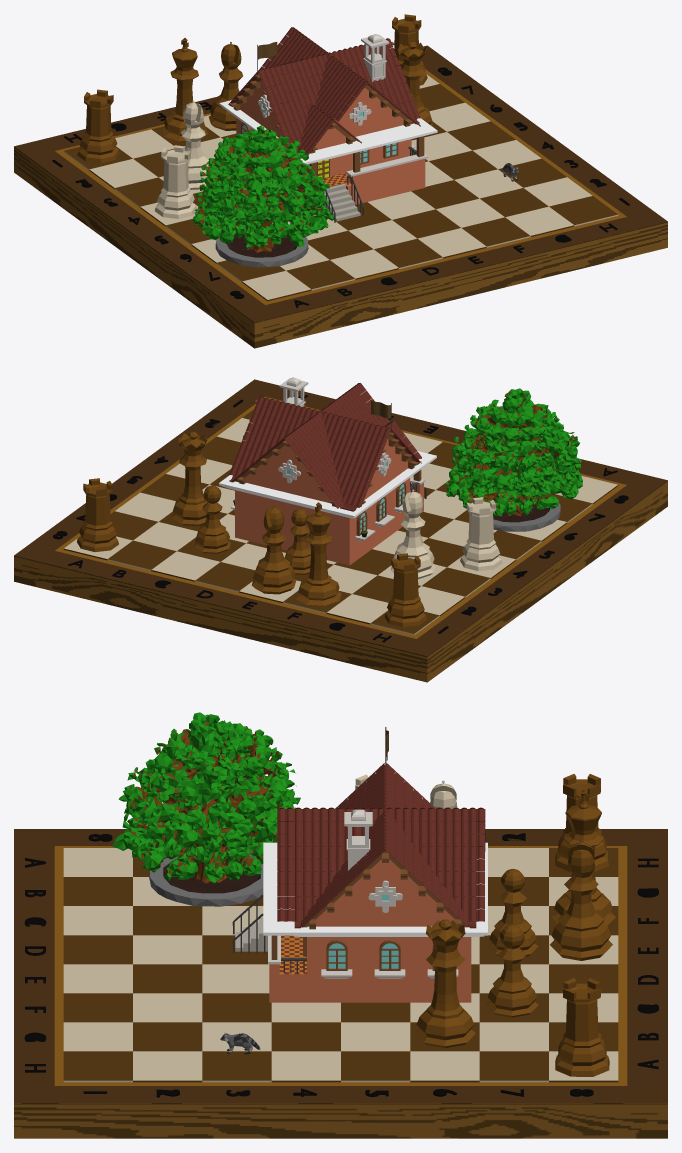
The picture shows the model from 3 angles, top to bottom: view 1: azimuth 30°, elevation 25°; view 2: azimuth 150°, elevation 25°; view 3: azimuth 270°, elevation 25°; orthographic projection. The views are drawn at different scales.
Parts seen in each view (by area): view 1: Cube.002, Cube.1141, OBJRANDOM_CEIBA; view 2: Cube.002, Cube.1141, OBJRANDOM_CEIBA; view 3: Cube.002, Cube.1141, OBJRANDOM_CEIBA.
Boxes of the visible parts, left/top/right/bottom form: Cube.002: left=14, top=14, right=667, bottom=348; Cube.1141: left=219, top=27, right=437, bottom=222; OBJRANDOM_CEIBA: left=193, top=125, right=334, bottom=267; Cube.002: left=14, top=379, right=667, bottom=682; Cube.1141: left=219, top=377, right=436, bottom=565; OBJRANDOM_CEIBA: left=445, top=388, right=582, bottom=531; Cube.002: left=14, top=774, right=667, bottom=1138; Cube.1141: left=232, top=727, right=487, bottom=1002; OBJRANDOM_CEIBA: left=112, top=712, right=300, bottom=906.
Bounding box in the file's own units: 3981 × 1661 × 4012.
32 materials, 3 textured.
